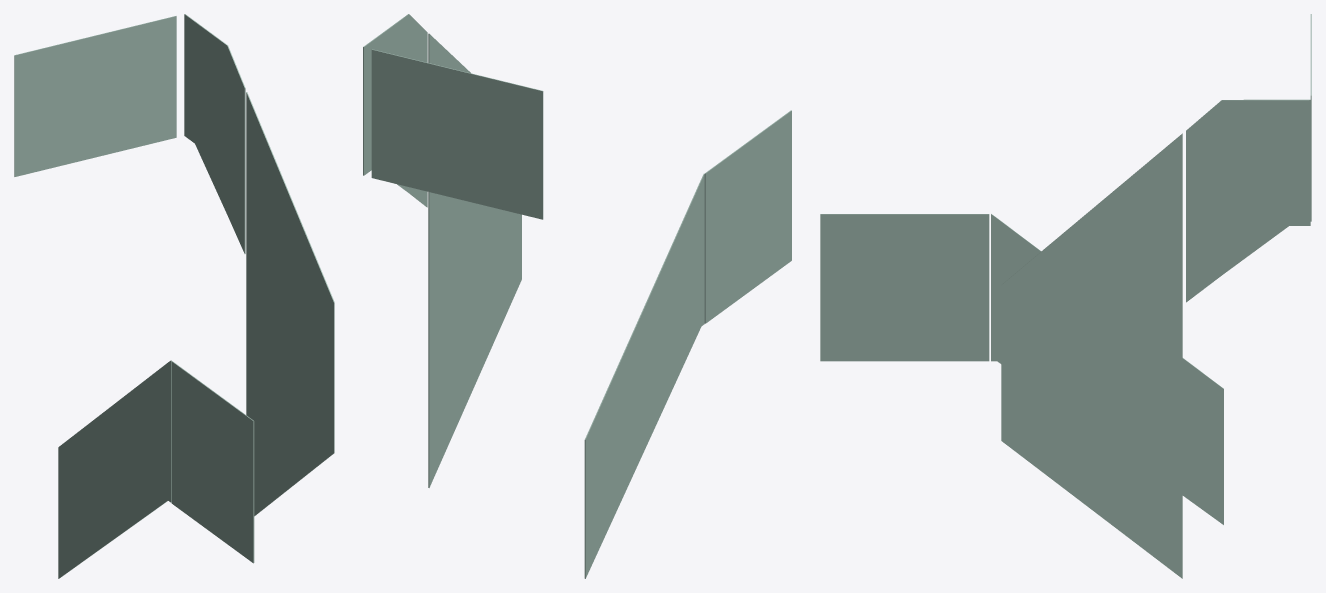
The model's file is cristal.fbx.
3 renders of one model, left to right at view 1: azimuth 30°, elevation 25°; view 2: azimuth 150°, elevation 25°; view 3: azimuth 270°, elevation 25°, orthographic. The views are drawn at different scales.
Parts seen in each view (by area): view 1: glass; view 2: glass; view 3: glass.
Boxes of the visible parts, bbox=[...] form: glass: bbox=[14, 14, 334, 578]; glass: bbox=[363, 14, 791, 578]; glass: bbox=[820, 14, 1311, 578].
Size of the model in its own units: 126 by 348 by 304.
